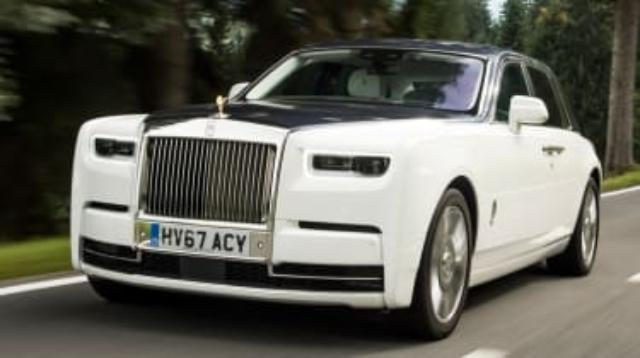rolls-royce: (69, 39, 603, 340)
